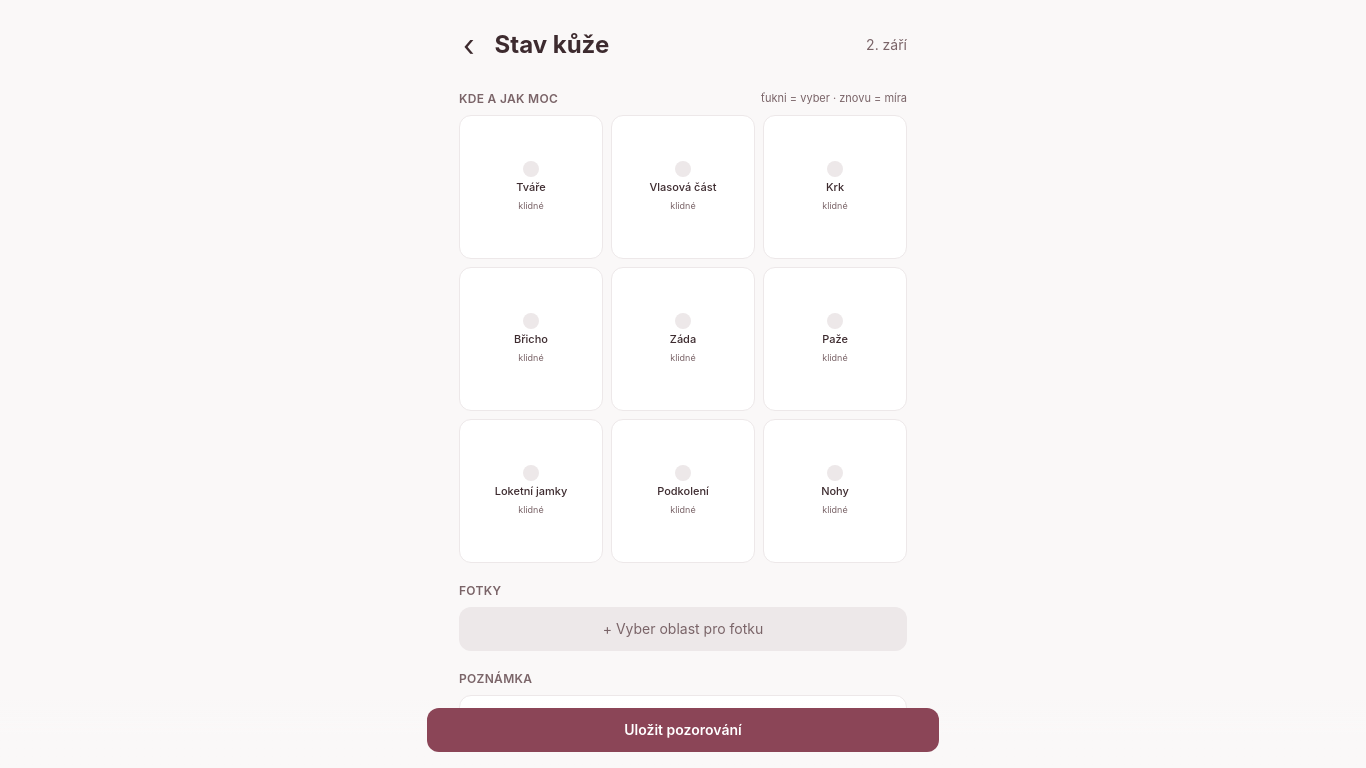
Test case: skin/+page.svelte — region grid › does not navigate when save returns { ok: false } and surfaces an error toast
This screenshot has width=1366, height=768.
Step 1. Click the button with test id "skin-region-face" → click(531, 186), box x1=459 y1=114 x2=603 y2=258
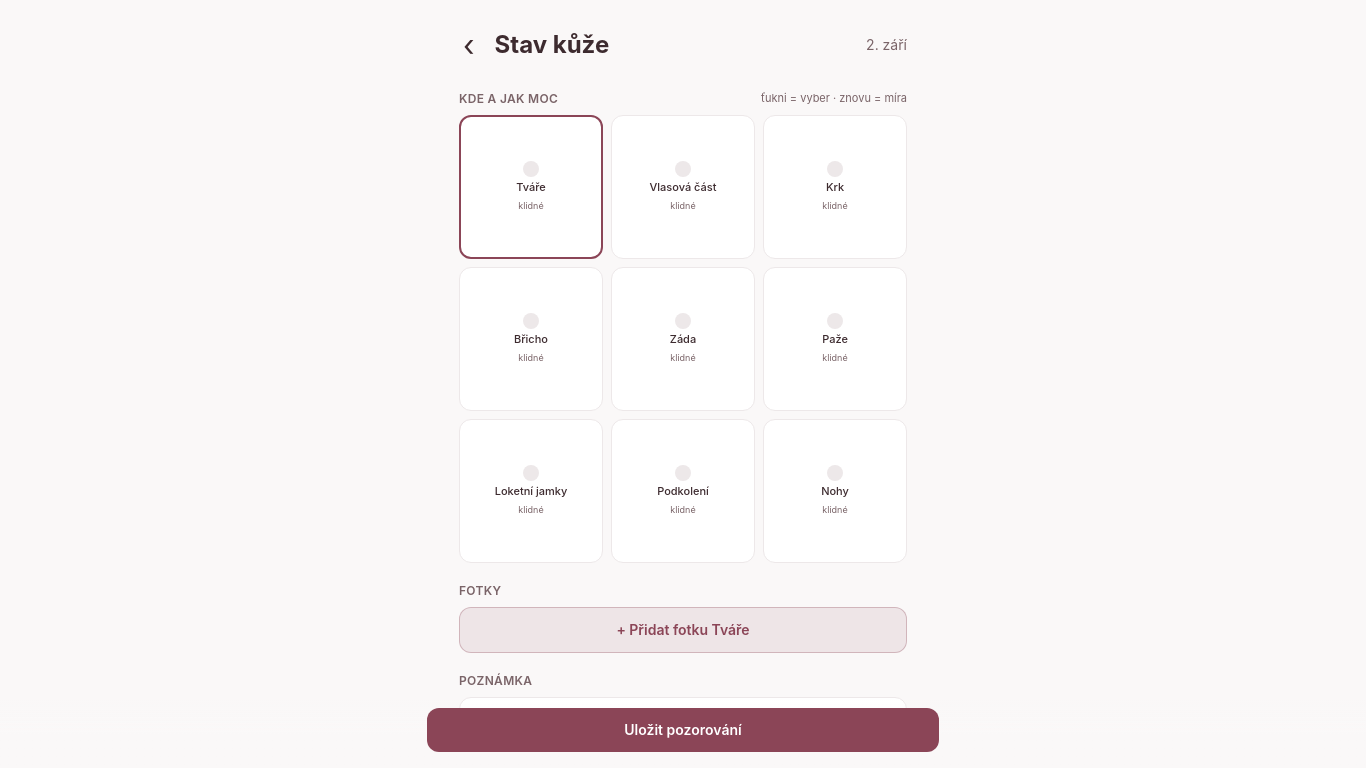
Step 2. Click the button with test id "skin-region-face" → click(531, 186), box x1=459 y1=114 x2=603 y2=258
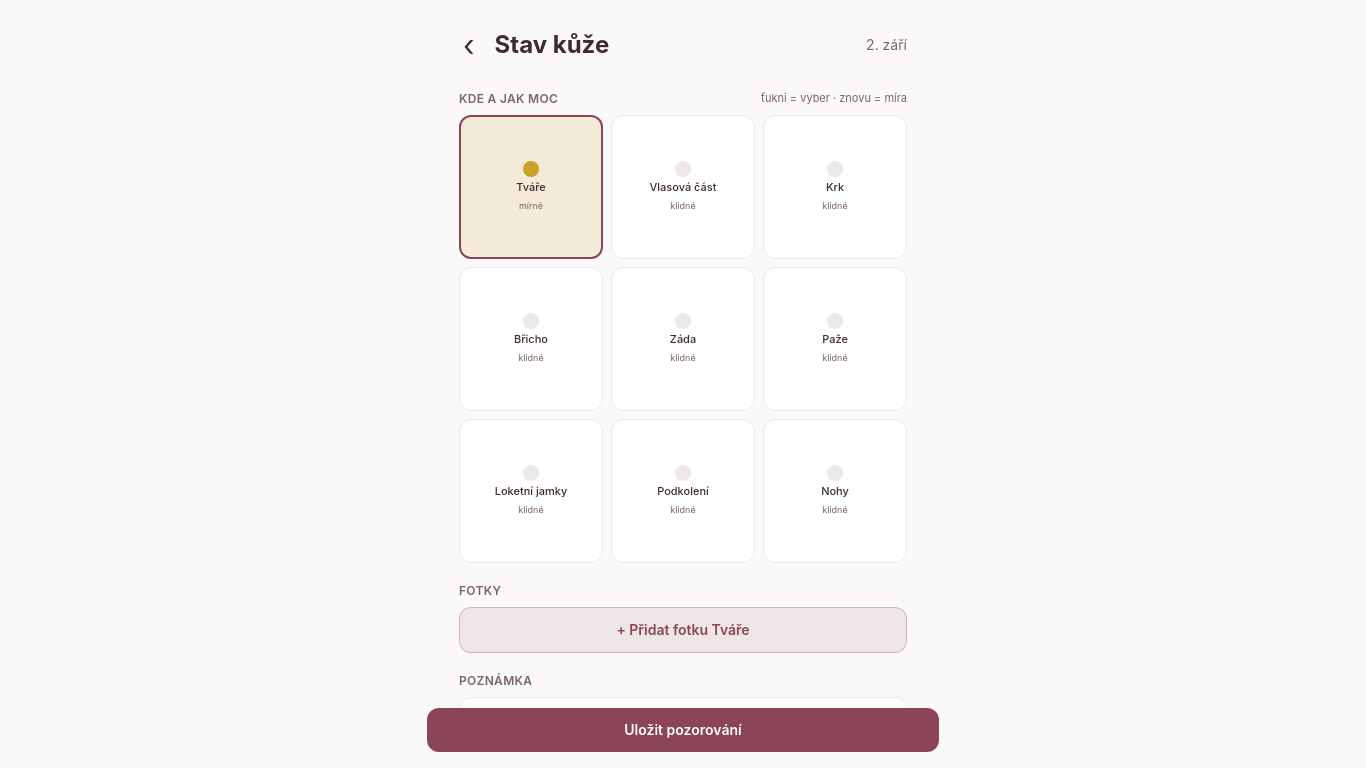
Step 3. Click the button with test id "skin-save" → click(683, 730), box x1=427 y1=708 x2=939 y2=752
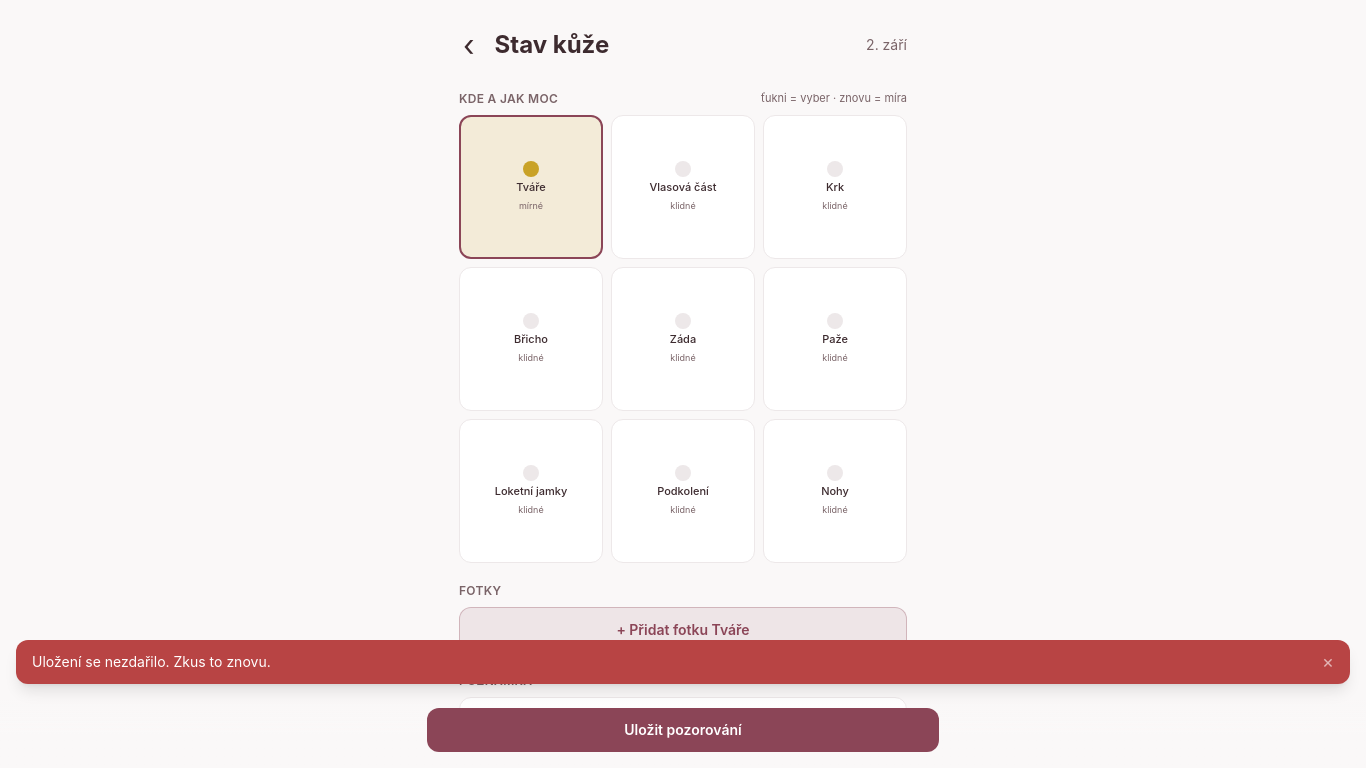
Now the text "Uložení se nezdařilo. Zkus to znovu." is shown, box x1=32 y1=652 x2=271 y2=672
